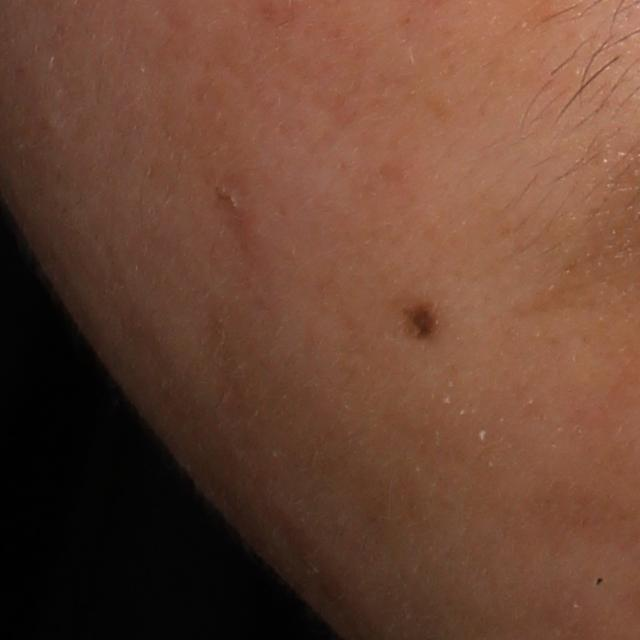nevus: (404, 303, 447, 342)
